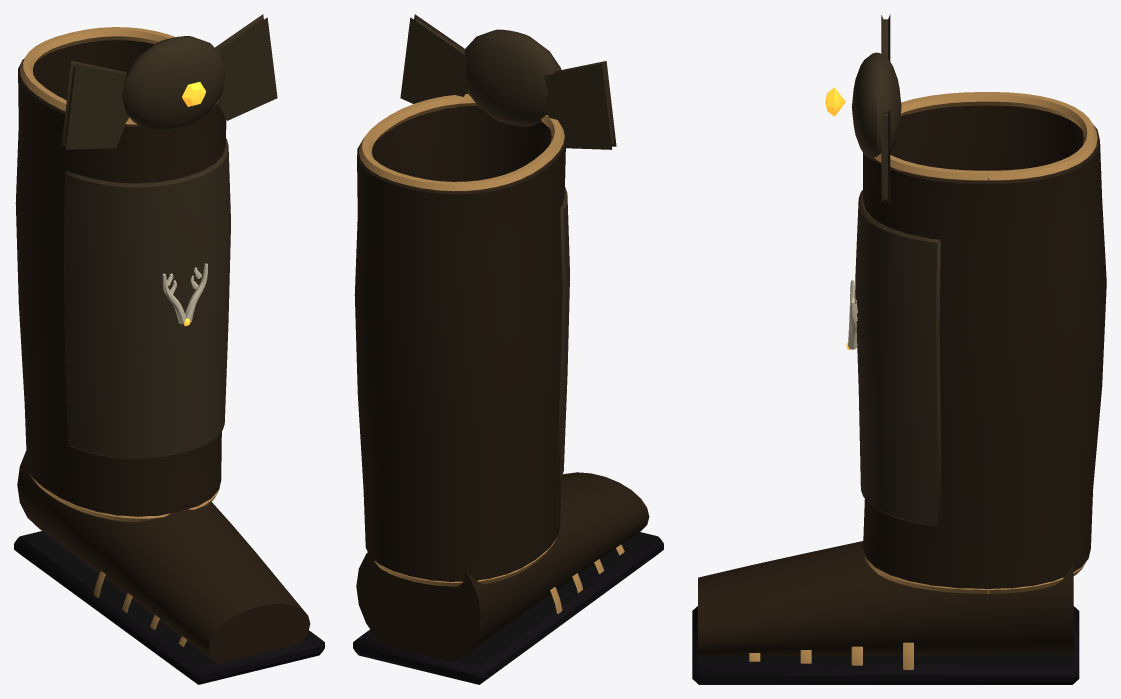
File: asc_wildroot_hunter_boots.glb
The picture shows the model from 3 angles, left to right: view 1: azimuth 30°, elevation 25°; view 2: azimuth 150°, elevation 25°; view 3: azimuth 270°, elevation 25°; orthographic projection. The views are drawn at different scales.
Visible parts, largest first — view 1: asc_wildroot_hunter_boots, AT_foot_L; view 2: asc_wildroot_hunter_boots, AT_foot_L; view 3: asc_wildroot_hunter_boots, AT_foot_L.
Boxes of the visible parts, x1,y1,x2,y2 form: asc_wildroot_hunter_boots: (15, 14, 277, 522); AT_foot_L: (14, 451, 324, 684); asc_wildroot_hunter_boots: (354, 14, 616, 586); AT_foot_L: (353, 472, 663, 684); asc_wildroot_hunter_boots: (825, 14, 1106, 593); AT_foot_L: (692, 541, 1079, 684).
Size of the model in its own units: 0.2244 by 0.5768 by 0.3641.
